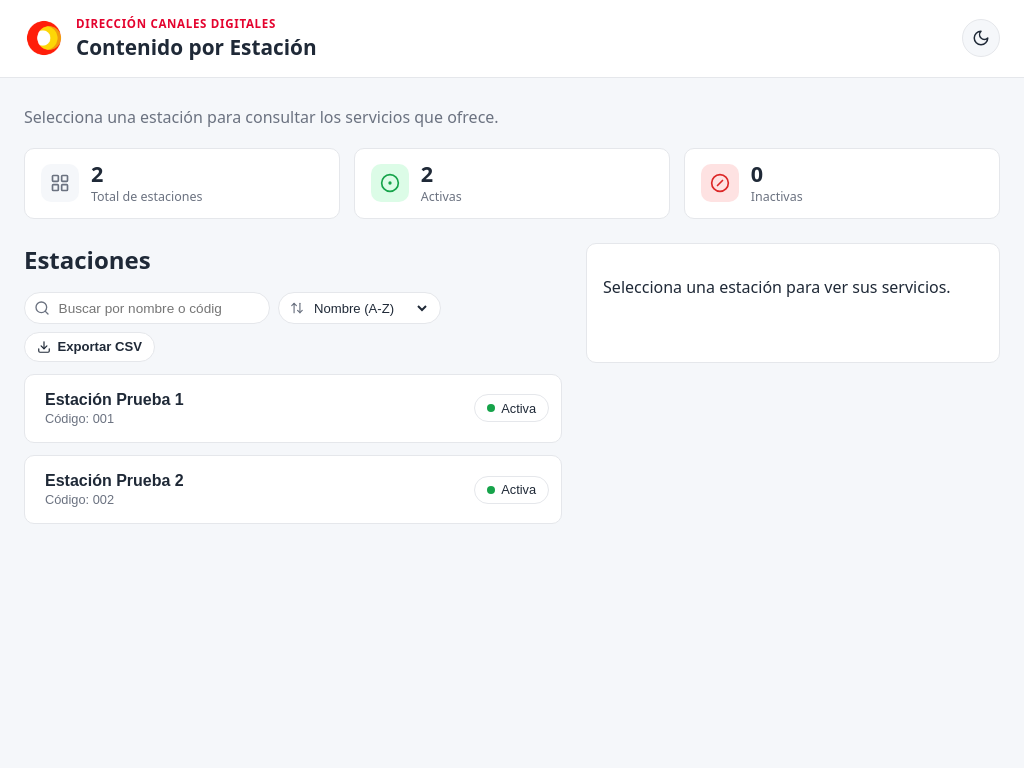
<StationsPage /> (integración) › cancelar el modal de confirmación no aplica ningún cambio
Expected: the heading "Estación Prueba 1" is shown, top-left (45, 391), bottom-right (184, 408)
Click the 1st switch labelled "Activa" at (511, 408), box top-left (474, 394), bottom-right (549, 422)
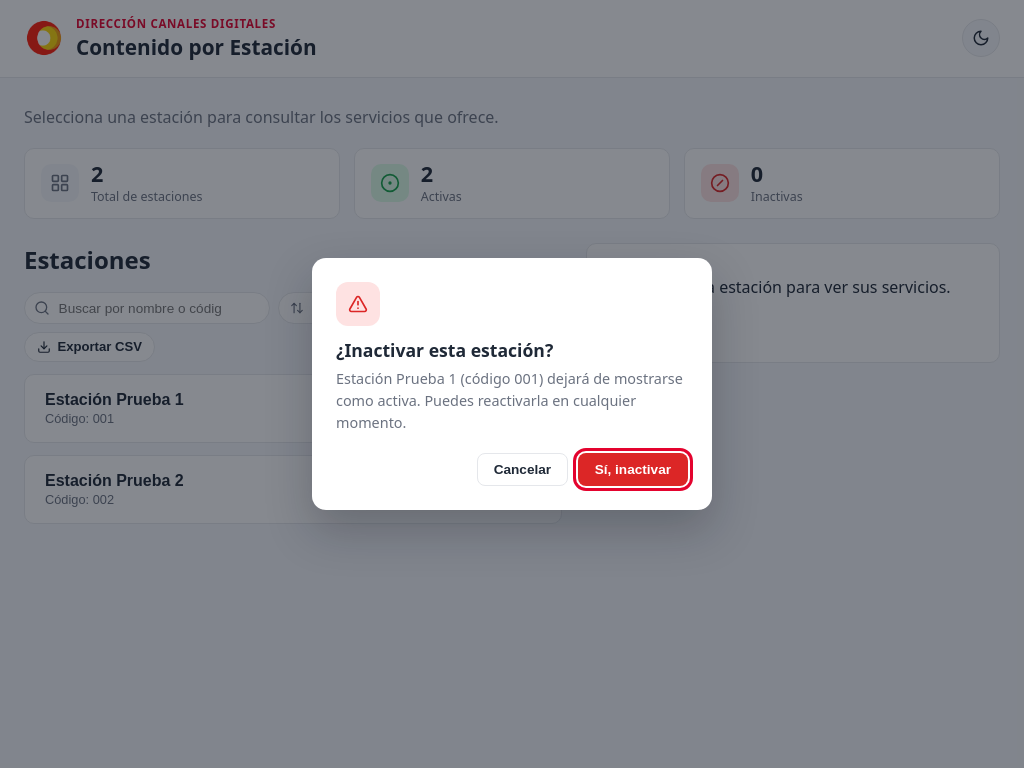
Expected: the dialog is shown, top-left (312, 258), bottom-right (712, 510)
Click the button "Cancelar" at (522, 470), box top-left (477, 453), bottom-right (568, 486)
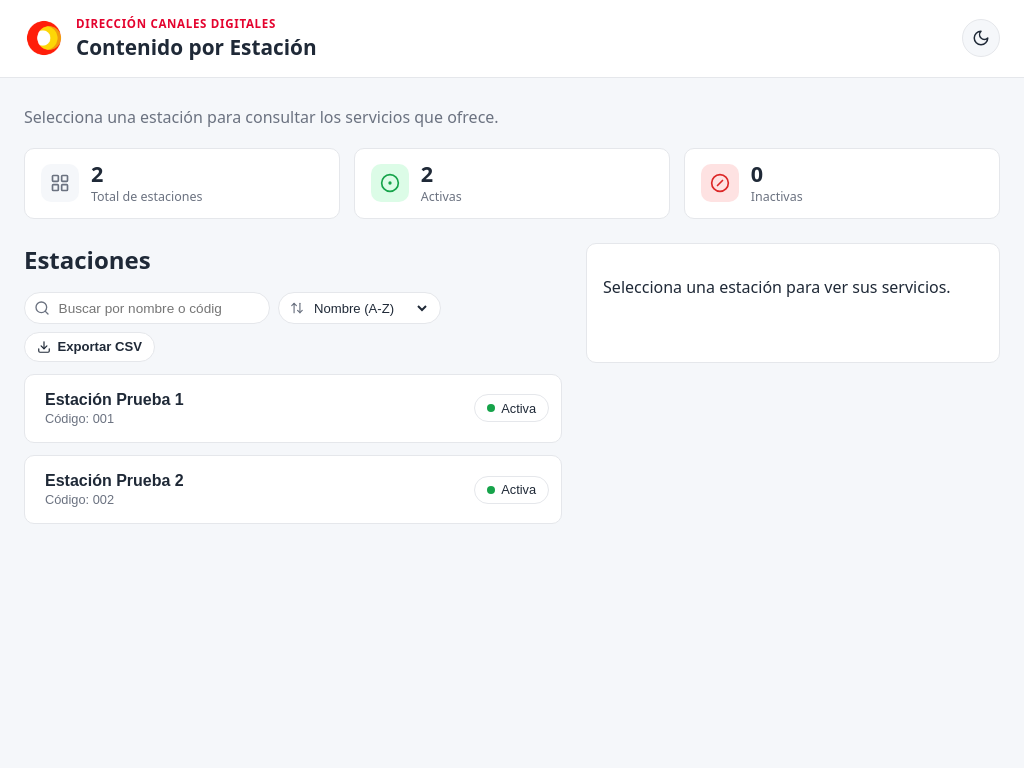
Expected: the dialog is gone
